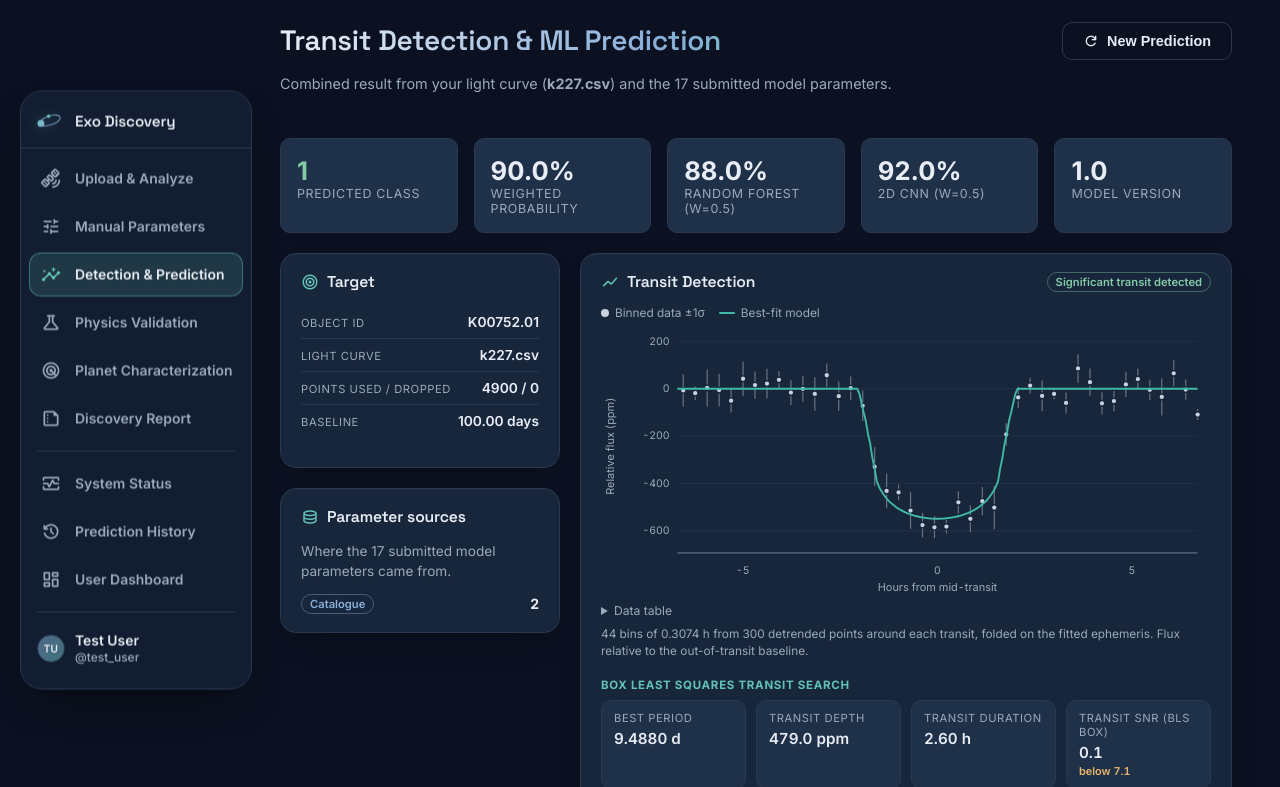
Test case: Planet characterization dashboard › each analytical view renders its own panels
Click the link "Planet Characterization": click(137, 370) [41, 358, 233, 382]
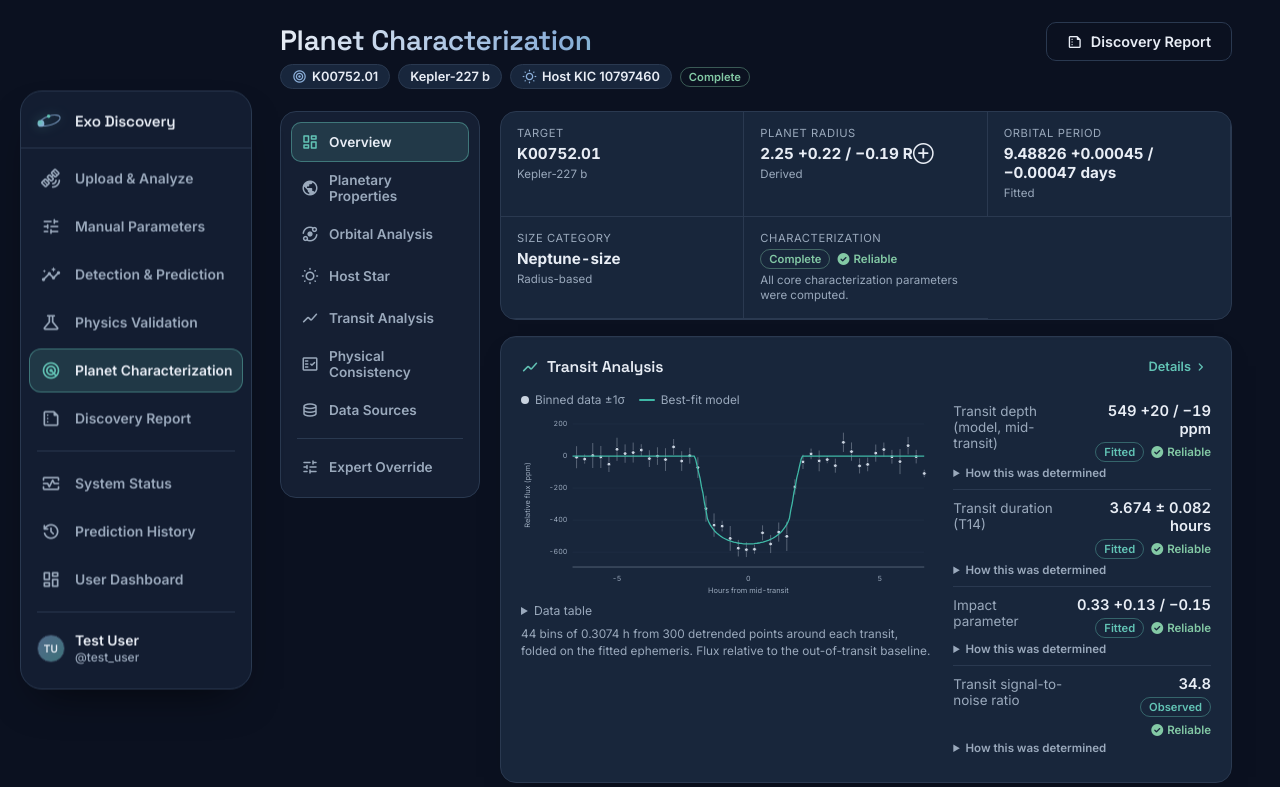
Click the button "Orbital Analysis": click(380, 234) [291, 214, 469, 254]
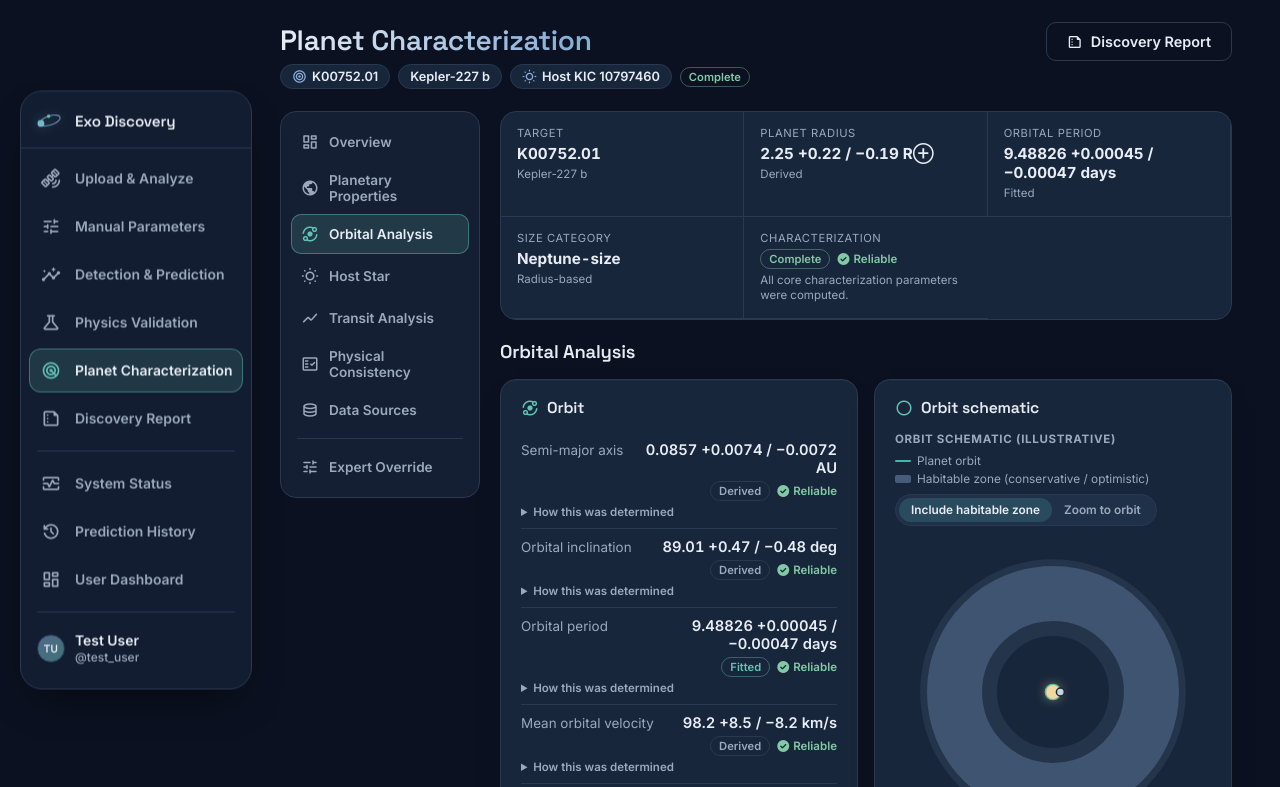
Result: the element with test id "char-param-semi_major_axis" shows "0.0857 +0.0074 / −0.0072" at [646, 441, 837, 477]
Click the button "Transit Analysis": click(380, 318) [291, 298, 469, 338]
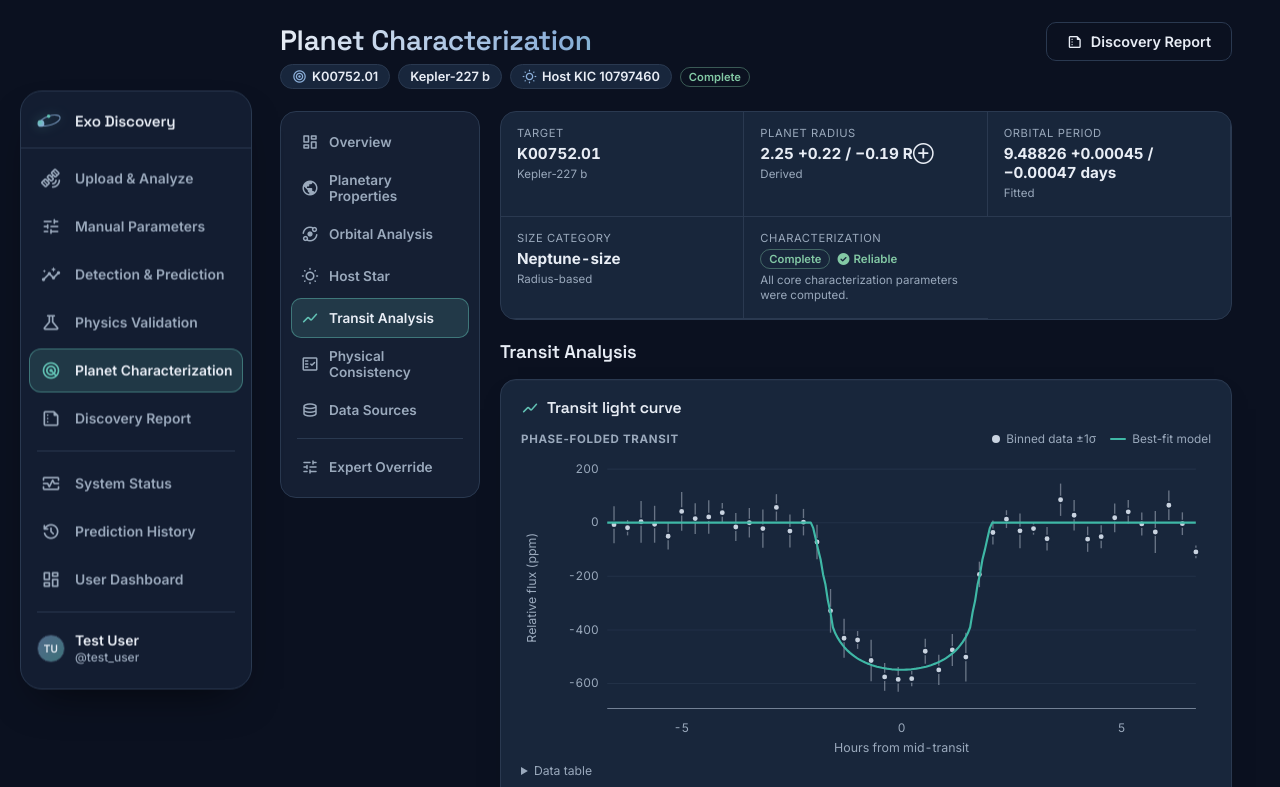
Click the button "Physical Consistency": click(380, 364) [291, 340, 469, 388]
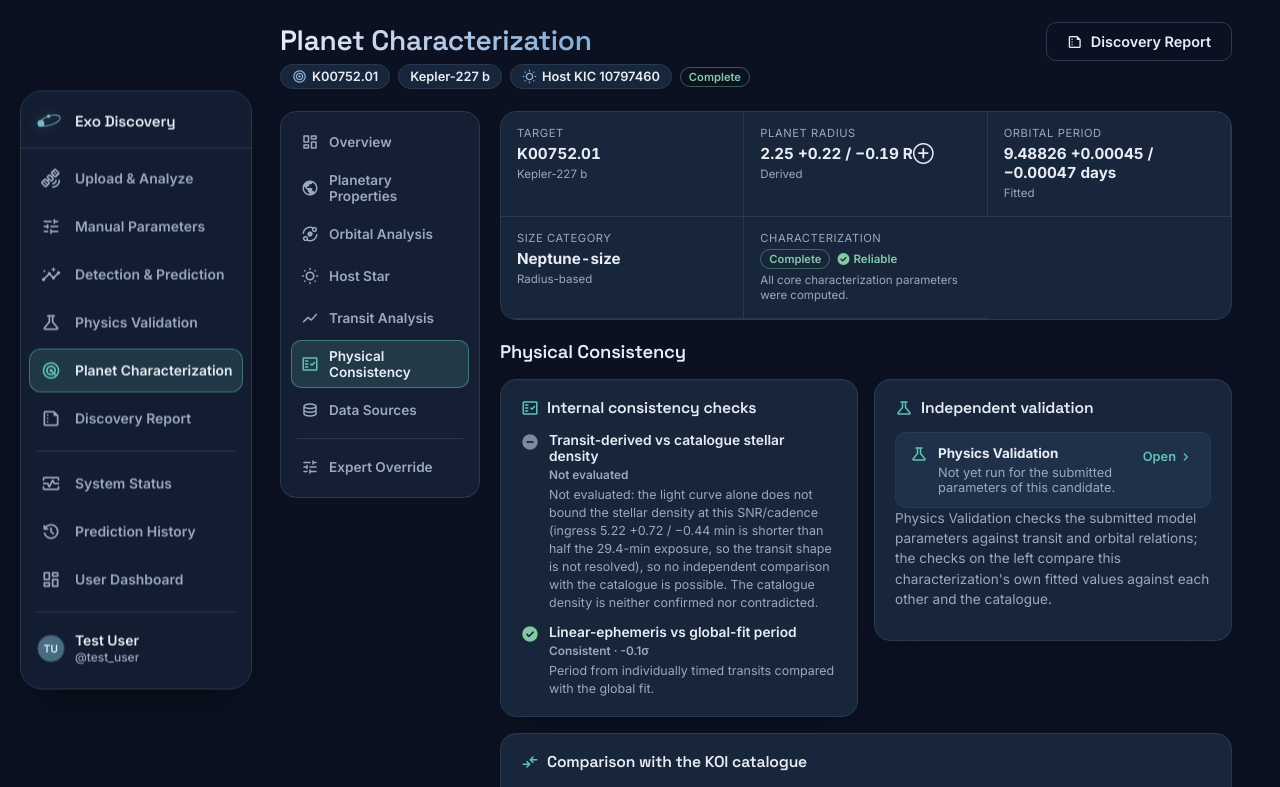
Result: the text "Not yet run for the submitted parameters of this candidate." is shown at [938, 465, 1131, 495]
Click the button "Data Sources": click(380, 410) [291, 390, 469, 430]
(page scrolled)
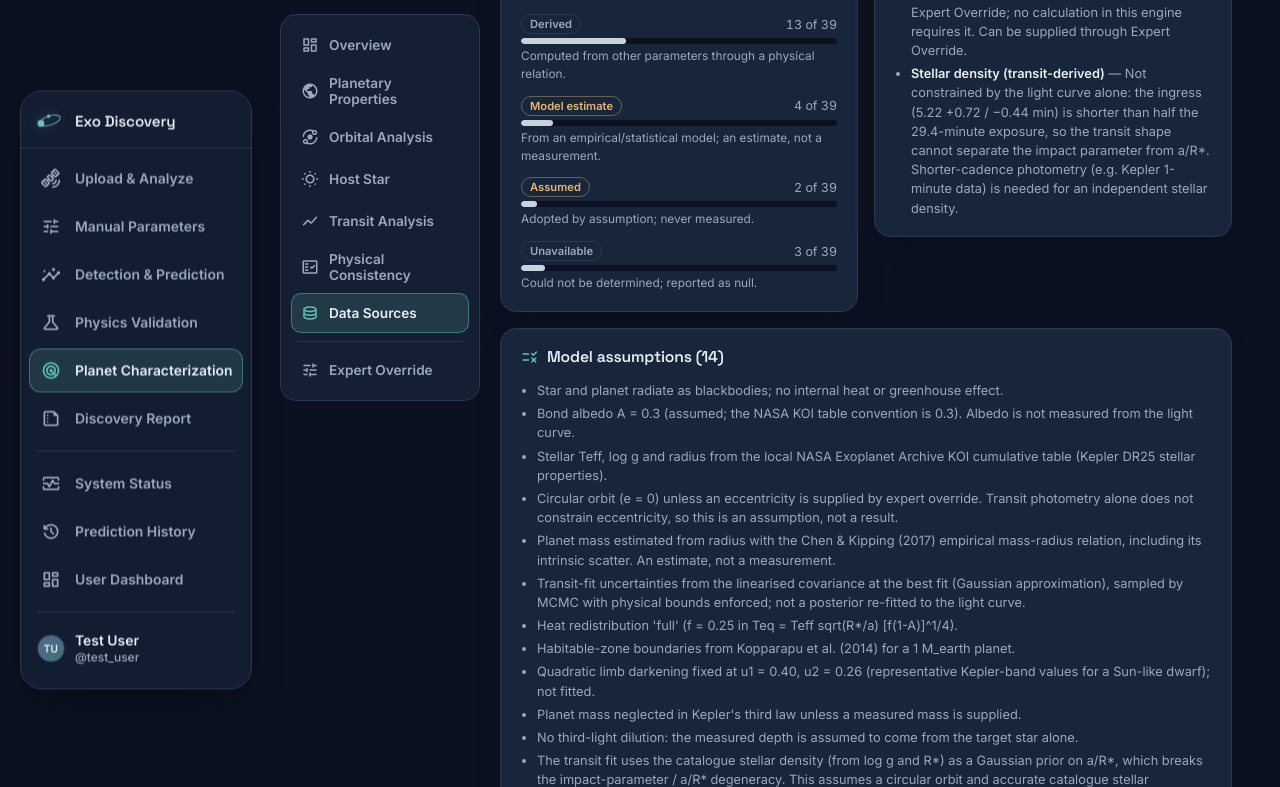
Result: the list item "Star and planet radiate as blackbodies; no internal heat or greenhouse effect." is shown at [537, 383, 1004, 398]
